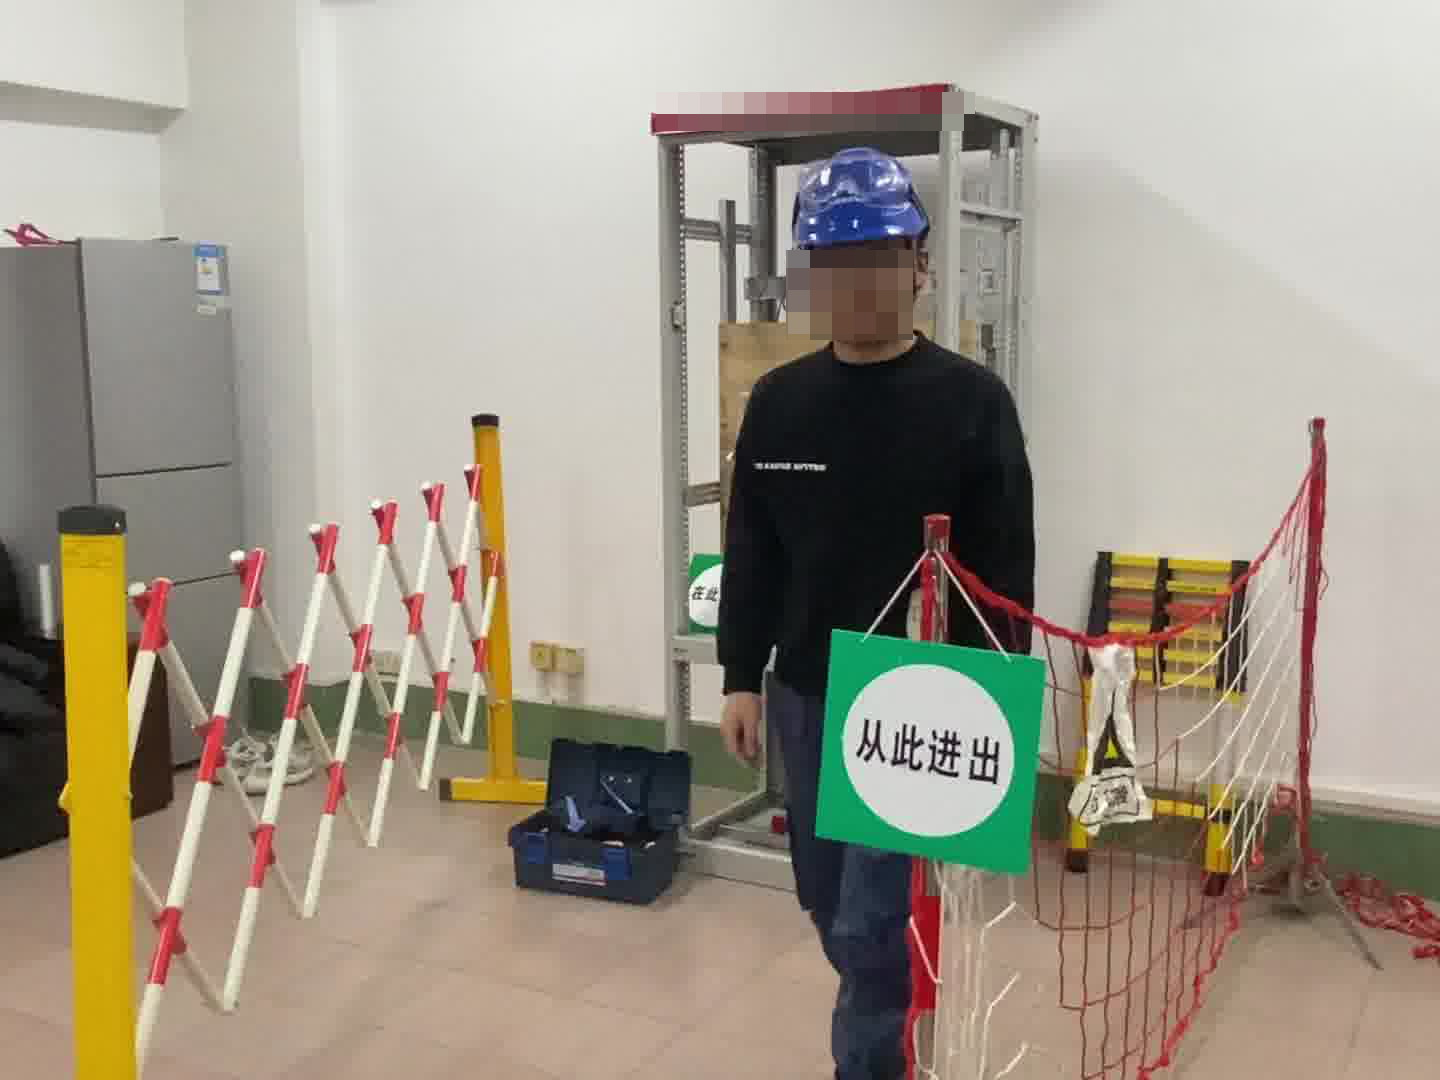downsuit: (757, 692, 914, 1080)
halt: (786, 142, 942, 360)
hand: (719, 693, 768, 767)
person: (700, 137, 1056, 1080)
upcloth: (717, 337, 1041, 672)
worksign: (812, 622, 1046, 875), (681, 552, 730, 637)
